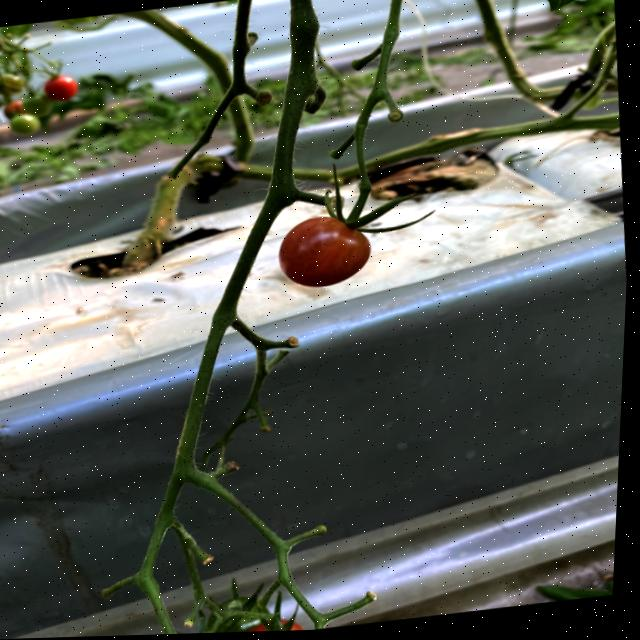ripe2: (278, 211, 371, 292), (240, 615, 309, 632)
